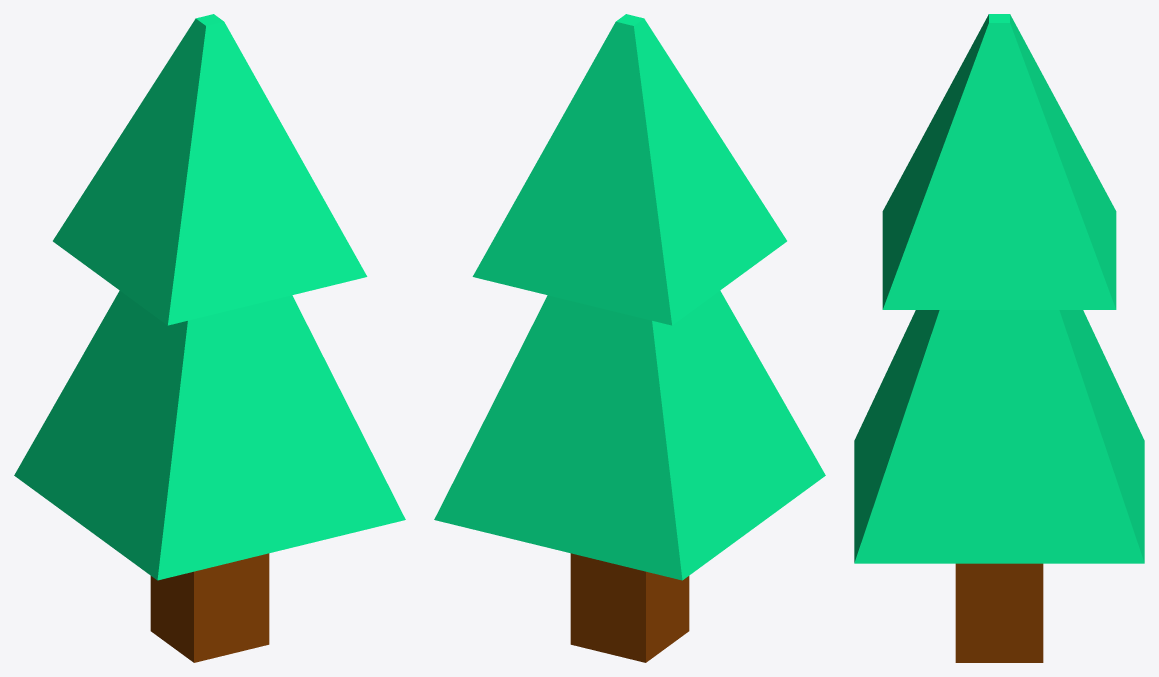
Rendered from elka4.fbx.
3 renders of one model, left to right at view 1: azimuth 30°, elevation 25°; view 2: azimuth 150°, elevation 25°; view 3: azimuth 270°, elevation 25°, orthographic.
Visible parts, largest first — view 1: elka.004; view 2: elka.004; view 3: elka.004.
Boxes of the visible parts, <box> form: elka.004: <box>14,14,405,662</box>; elka.004: <box>434,14,825,662</box>; elka.004: <box>854,14,1144,662</box>.
Bounding box in the file's own units: 101 × 240 × 101.
